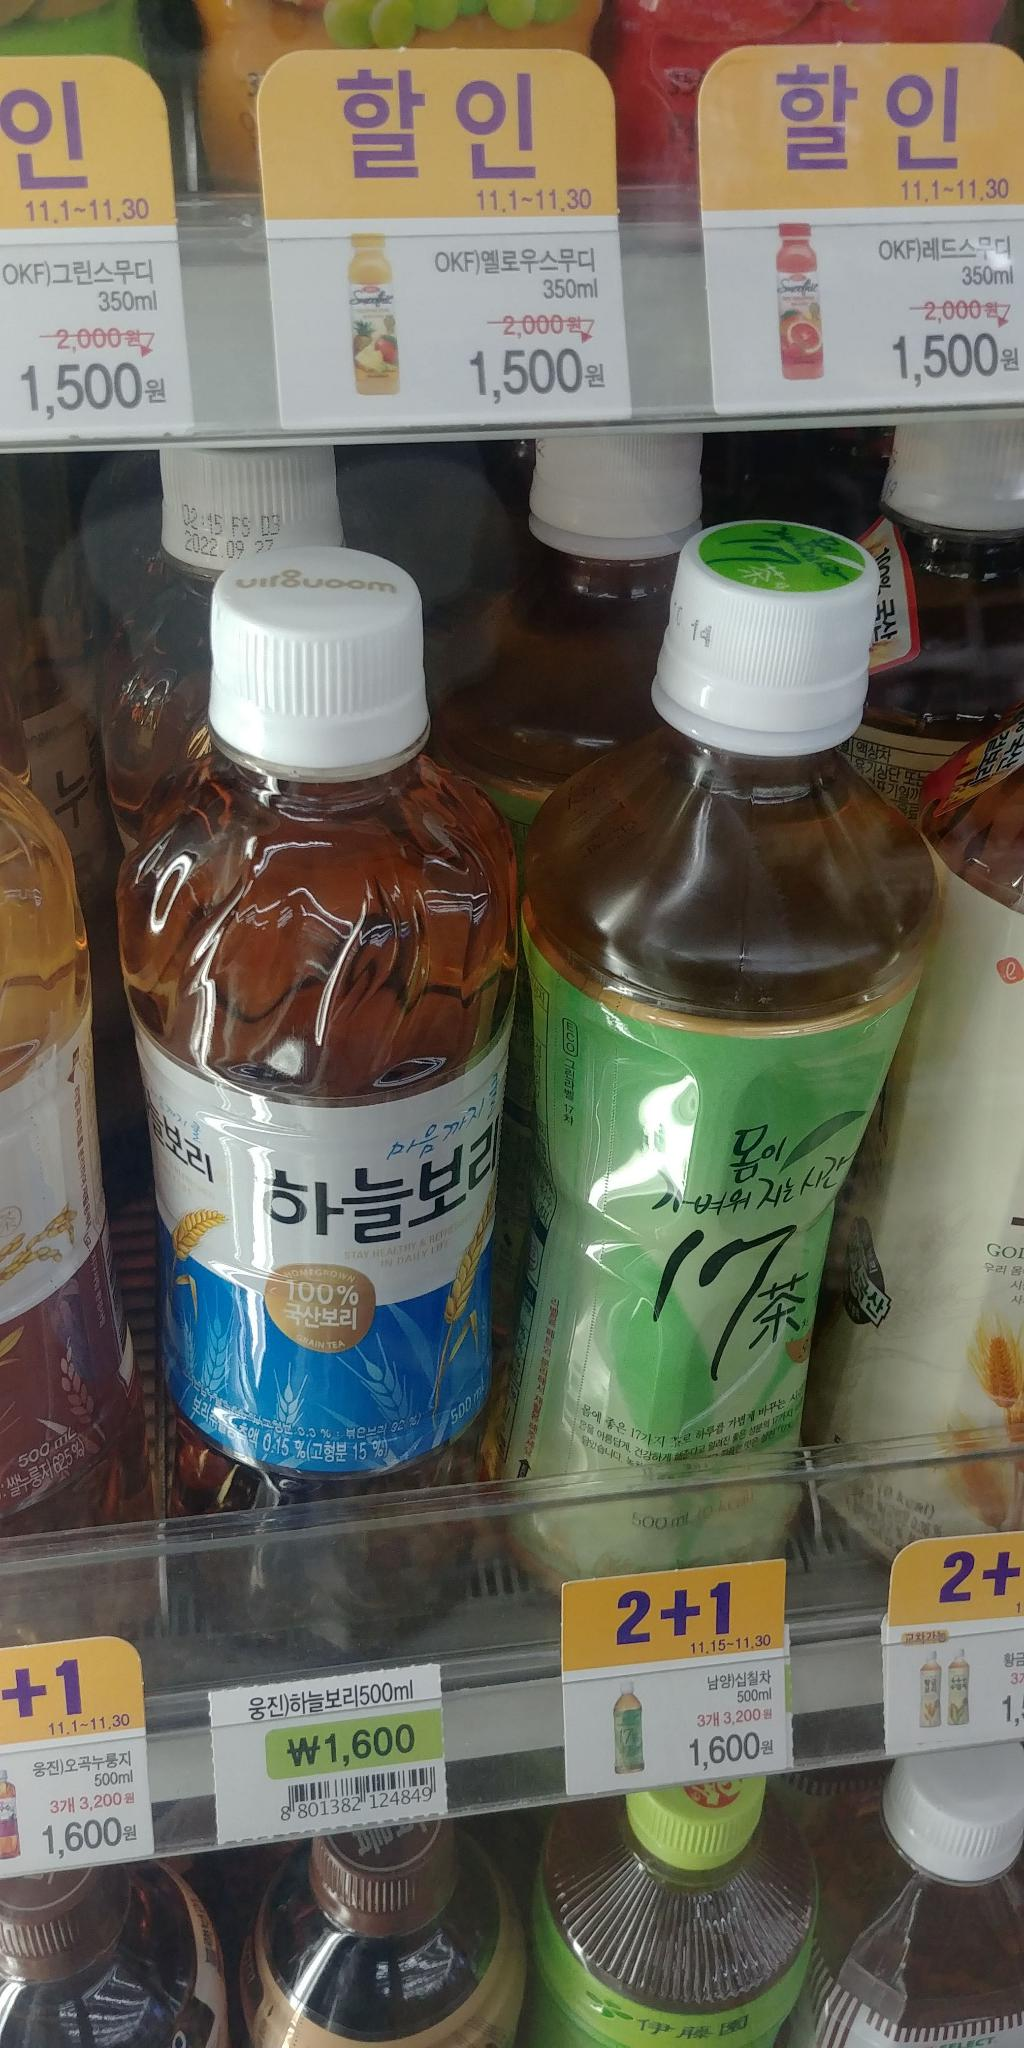haneulbori: (111, 519, 507, 1671)
